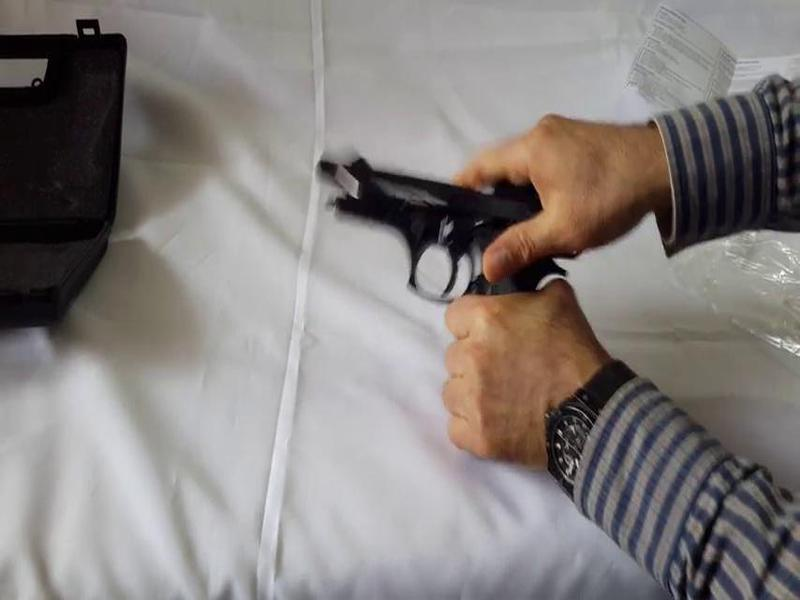Pistola: (307, 154, 572, 359)
